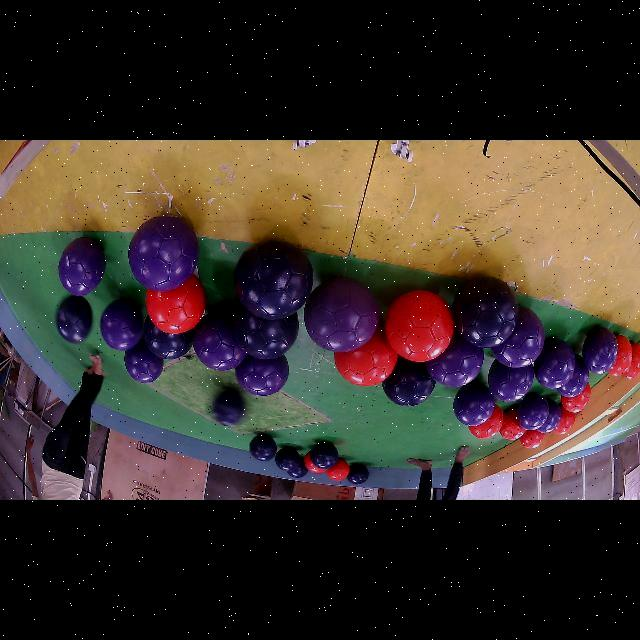B: (234, 241, 314, 320), (454, 278, 519, 348), (232, 306, 299, 359), (382, 357, 435, 406), (144, 316, 192, 360), (56, 296, 92, 344), (214, 390, 244, 426), (310, 441, 339, 470), (250, 434, 278, 461), (275, 446, 301, 472), (288, 458, 309, 479), (348, 464, 369, 484)
P: (304, 278, 379, 352), (129, 215, 199, 291), (425, 330, 484, 388), (491, 306, 545, 368), (192, 312, 246, 371), (59, 238, 106, 296), (235, 355, 289, 396), (100, 300, 142, 350), (534, 339, 575, 389), (488, 360, 534, 401), (454, 381, 495, 426), (125, 341, 164, 384), (582, 328, 618, 374), (556, 356, 589, 398), (518, 392, 549, 430), (538, 399, 561, 432)
R: (385, 290, 454, 362), (335, 328, 398, 386), (146, 275, 206, 334), (469, 407, 504, 439), (608, 336, 632, 376), (561, 384, 591, 412), (500, 409, 526, 440), (624, 344, 640, 380), (554, 408, 575, 435), (326, 459, 350, 481), (304, 451, 326, 474), (520, 430, 545, 449)
